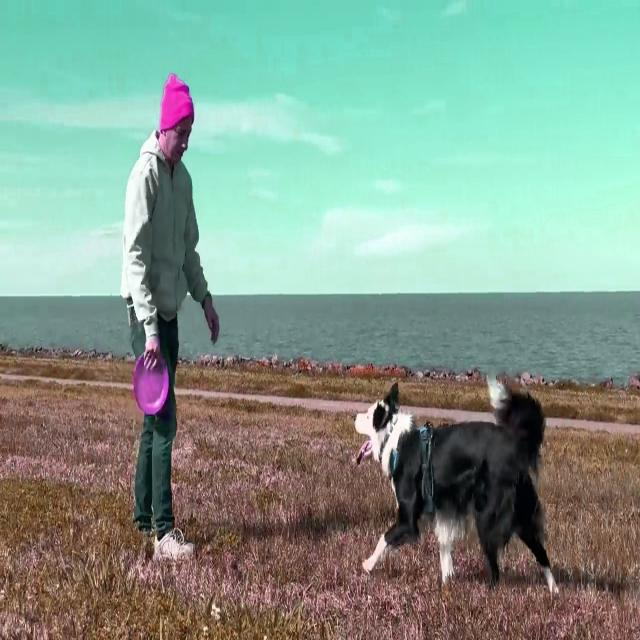Unleashed_Dog: (149, 374, 561, 596)
